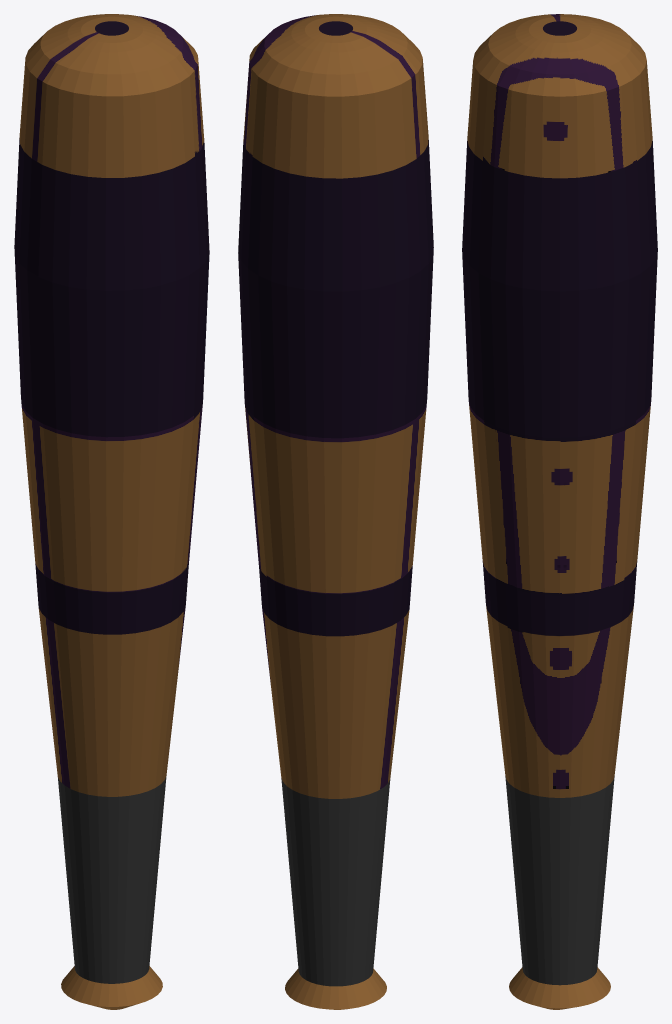
Rendered from batte.obj.
The picture shows the model from 3 angles, left to right: view 1: azimuth 30°, elevation 25°; view 2: azimuth 150°, elevation 25°; view 3: azimuth 270°, elevation 25°; orthographic projection.
Visible parts, largest first — view 1: Batte; view 2: Batte; view 3: Batte.
Boxes of the visible parts, box(x1,y1,x2,y2) form: Batte: box(14, 14, 209, 1009); Batte: box(238, 14, 433, 1009); Batte: box(462, 14, 657, 1009).
Size of the model in its own units: 0.8132 by 4.46 by 0.8132.
